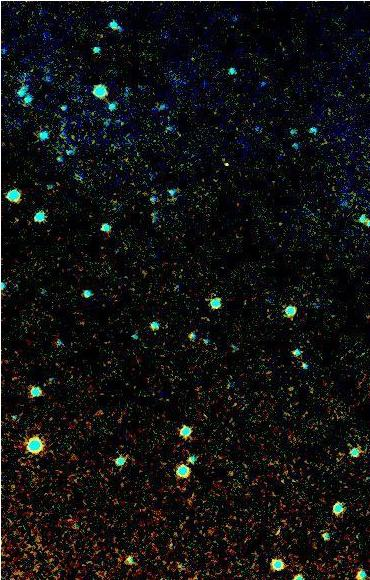star: (210, 154, 240, 184)
